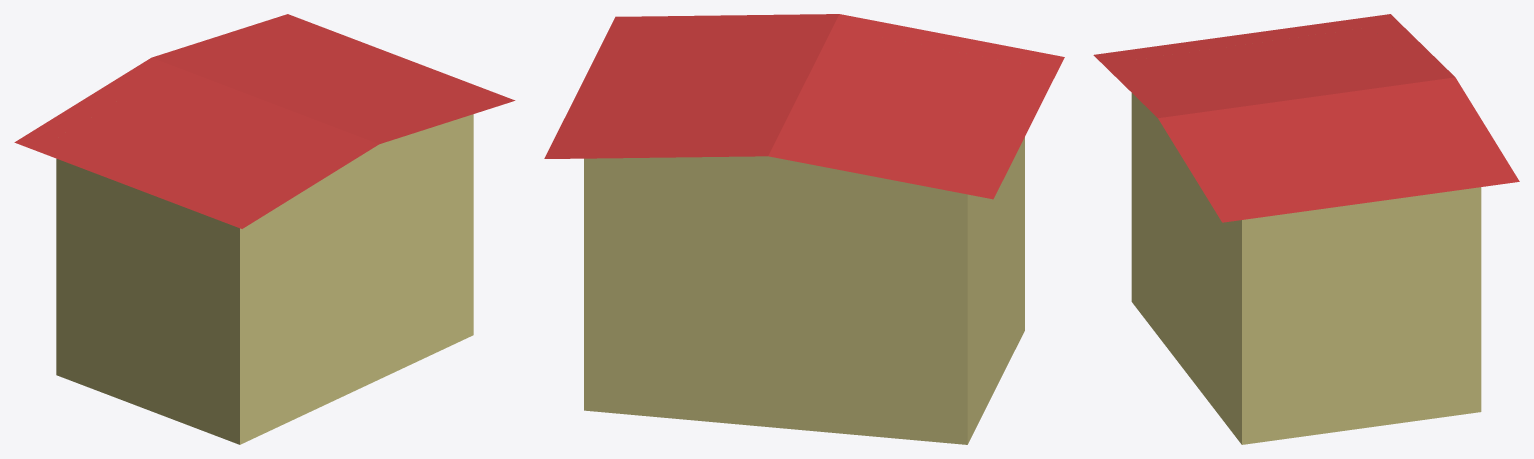
3 views of the same model, side by side, from view 1: azimuth 30°, elevation 25°; view 2: azimuth 150°, elevation 25°; view 3: azimuth 270°, elevation 25° (orthographic). The views are drawn at different scales.
Size of the model in its own units: 16.16 by 13.97 by 9.36.
